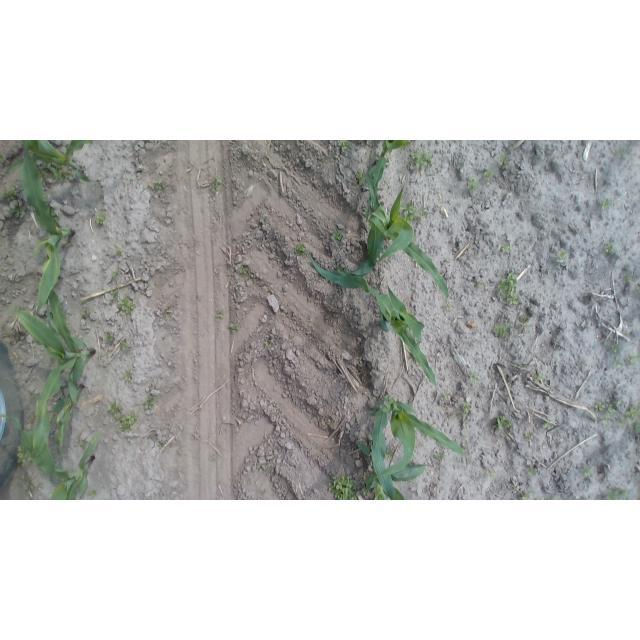Maize: (6, 273, 96, 465), (318, 258, 439, 390), (312, 189, 444, 305), (4, 385, 104, 500), (360, 394, 466, 499), (21, 148, 75, 315), (3, 141, 98, 186), (364, 141, 412, 230)
Weeds: (496, 272, 521, 307), (328, 474, 359, 500), (41, 164, 72, 182), (403, 201, 428, 223), (411, 150, 434, 170), (118, 412, 139, 432), (236, 262, 256, 282), (603, 487, 631, 499), (492, 323, 511, 340), (596, 399, 618, 413), (496, 413, 513, 431), (120, 295, 137, 313), (1, 186, 19, 202), (106, 400, 124, 416), (466, 177, 480, 196), (15, 447, 30, 464), (143, 395, 158, 411), (10, 203, 27, 217), (626, 403, 639, 421), (293, 243, 308, 258), (554, 248, 568, 264), (209, 176, 223, 192), (151, 180, 168, 193), (93, 211, 107, 226), (594, 400, 611, 412), (497, 151, 509, 168), (599, 199, 614, 212), (604, 241, 617, 256), (582, 464, 594, 480), (332, 230, 344, 246), (118, 338, 131, 352), (122, 369, 135, 383), (461, 402, 473, 417), (617, 148, 630, 161), (606, 340, 620, 352), (21, 477, 32, 492), (338, 141, 353, 152), (228, 320, 241, 332), (385, 446, 396, 459), (541, 420, 555, 430), (356, 169, 366, 183), (519, 489, 533, 499), (102, 332, 114, 343), (627, 354, 638, 366), (482, 169, 494, 180), (441, 391, 452, 402), (216, 309, 227, 320), (613, 358, 624, 369), (468, 371, 479, 382), (109, 289, 119, 301), (631, 420, 638, 436), (114, 248, 124, 259), (89, 488, 100, 498), (535, 372, 545, 383), (527, 466, 538, 476), (111, 269, 121, 280), (501, 243, 511, 254), (82, 307, 91, 319), (78, 439, 88, 449), (524, 430, 534, 440), (618, 418, 627, 428), (624, 274, 633, 284), (487, 469, 496, 479), (264, 338, 273, 348), (476, 279, 485, 289), (614, 397, 622, 408), (444, 300, 453, 309), (462, 434, 471, 443), (436, 452, 446, 460), (272, 407, 280, 416), (261, 216, 269, 225), (261, 463, 269, 471), (603, 417, 611, 425), (371, 151, 377, 161), (156, 442, 163, 449)
